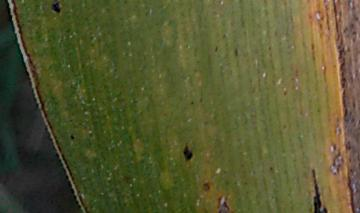tarspot: (309, 166, 328, 213), (180, 143, 193, 163), (50, 1, 65, 14), (221, 200, 231, 213), (233, 46, 241, 59), (66, 133, 77, 141), (202, 182, 210, 192), (213, 44, 219, 53), (282, 89, 288, 98), (189, 99, 195, 106), (268, 165, 273, 172)
